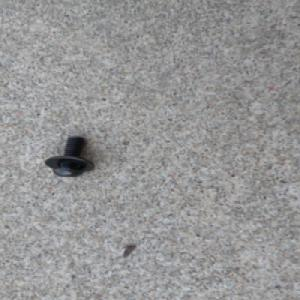BoltWasher: (42, 134, 95, 178)
